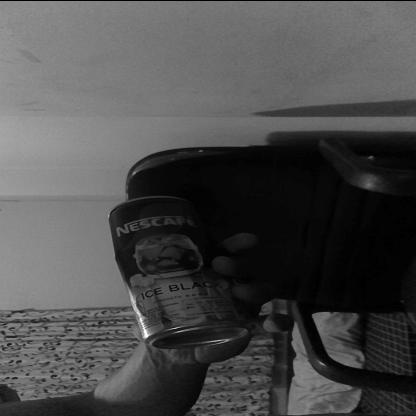alumunium_can: (102, 197, 244, 349)
